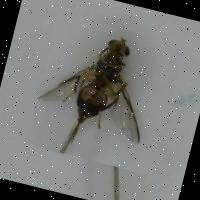Oriental-fruit-fly: (25, 13, 185, 176)
